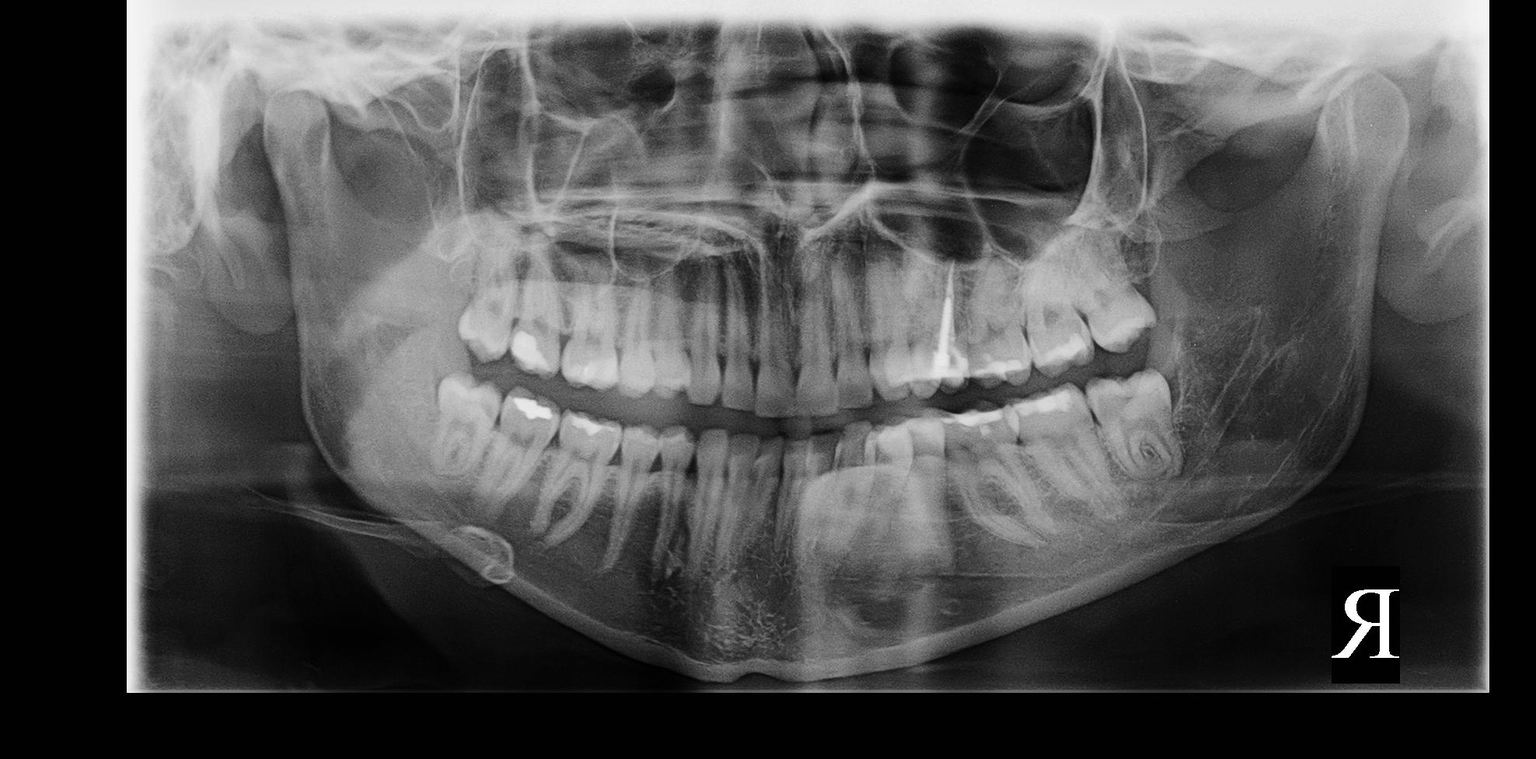Premolars: (516, 231, 1536, 676), (592, 220, 1536, 630), (510, 67, 1471, 392), (292, 204, 833, 594), (259, 199, 747, 571)
